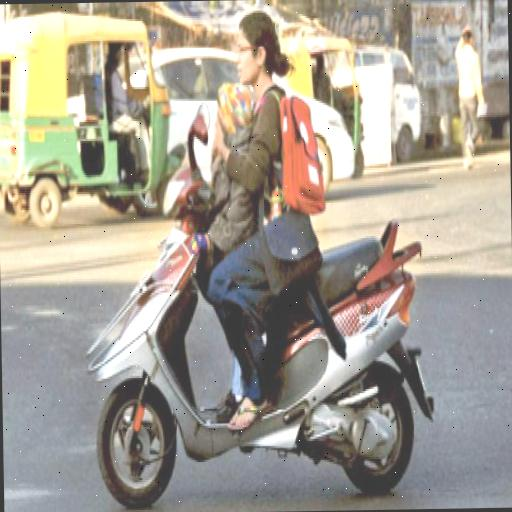no helmet: (106, 0, 332, 474)
